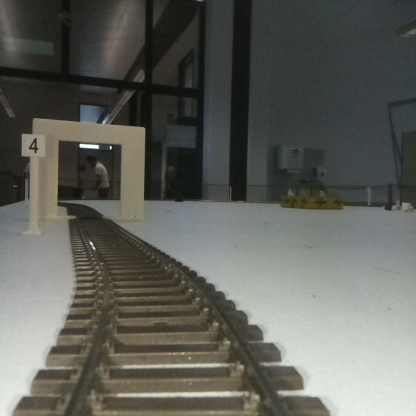white-info-4: (20, 133, 44, 233)
